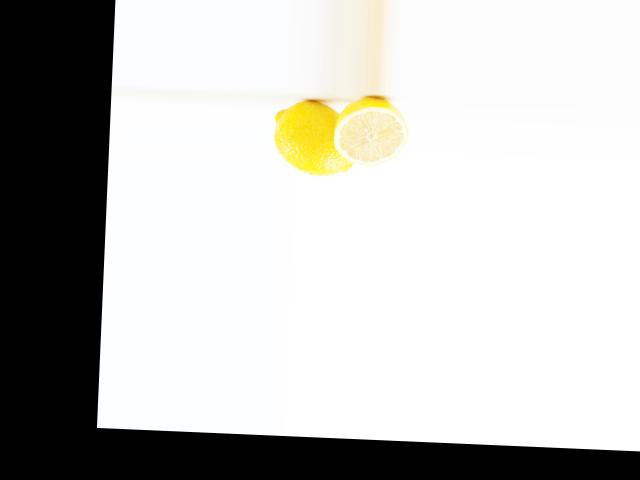lemon: (269, 91, 365, 175)
